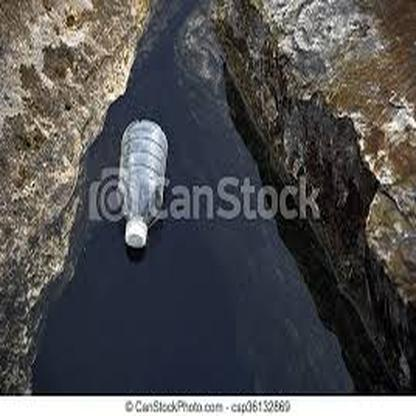plastic bottle: (118, 119, 164, 244)
